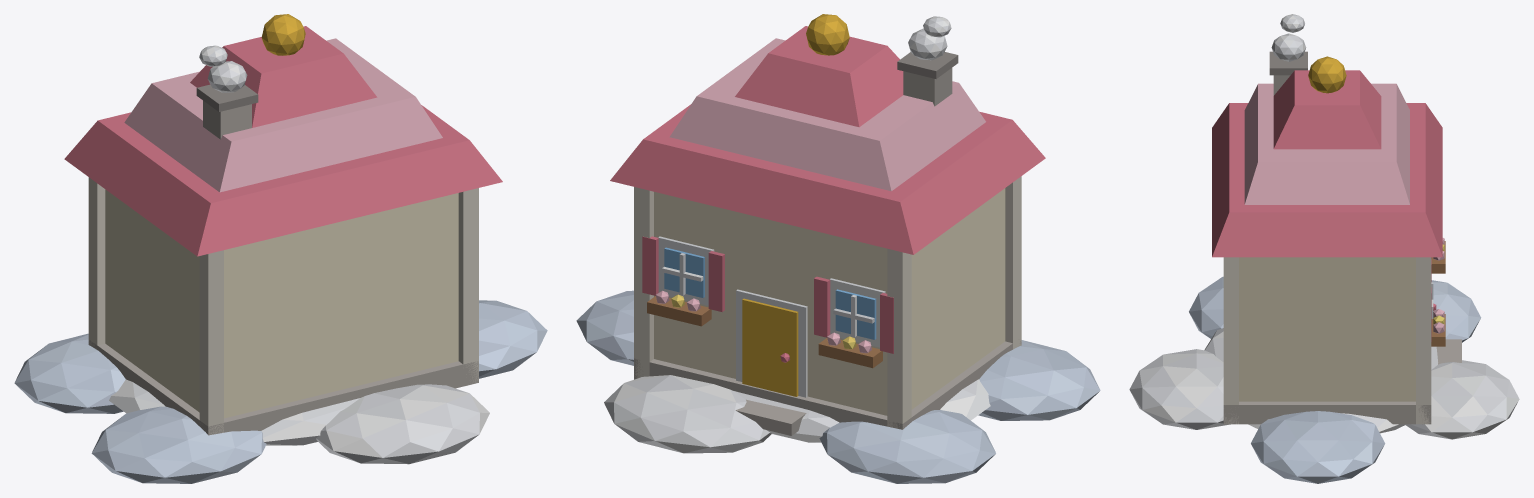
File: Decor_CloudTemple_CloudCottage.fbx
The picture shows the model from 3 angles, left to right: view 1: azimuth 30°, elevation 25°; view 2: azimuth 150°, elevation 25°; view 3: azimuth 270°, elevation 25°; orthographic projection. The views are drawn at different scales.
Parts seen in each view (by area): view 1: CloudCottage_Body; view 2: CloudCottage_Body; view 3: CloudCottage_Body.
Boxes of the visible parts, x1,y1,x2,y2 form: CloudCottage_Body: (14, 14, 547, 483); CloudCottage_Body: (576, 14, 1100, 483); CloudCottage_Body: (1129, 14, 1519, 483).
Bounding box in the file's own units: 24 × 19.2 × 20.
